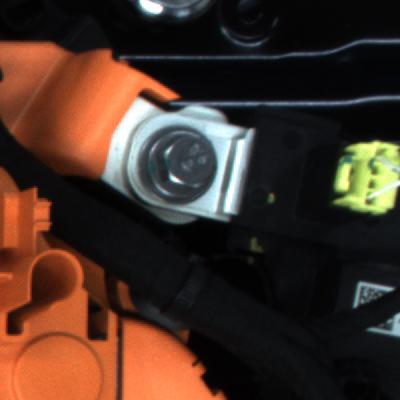nut_b: (135, 120, 221, 205)
